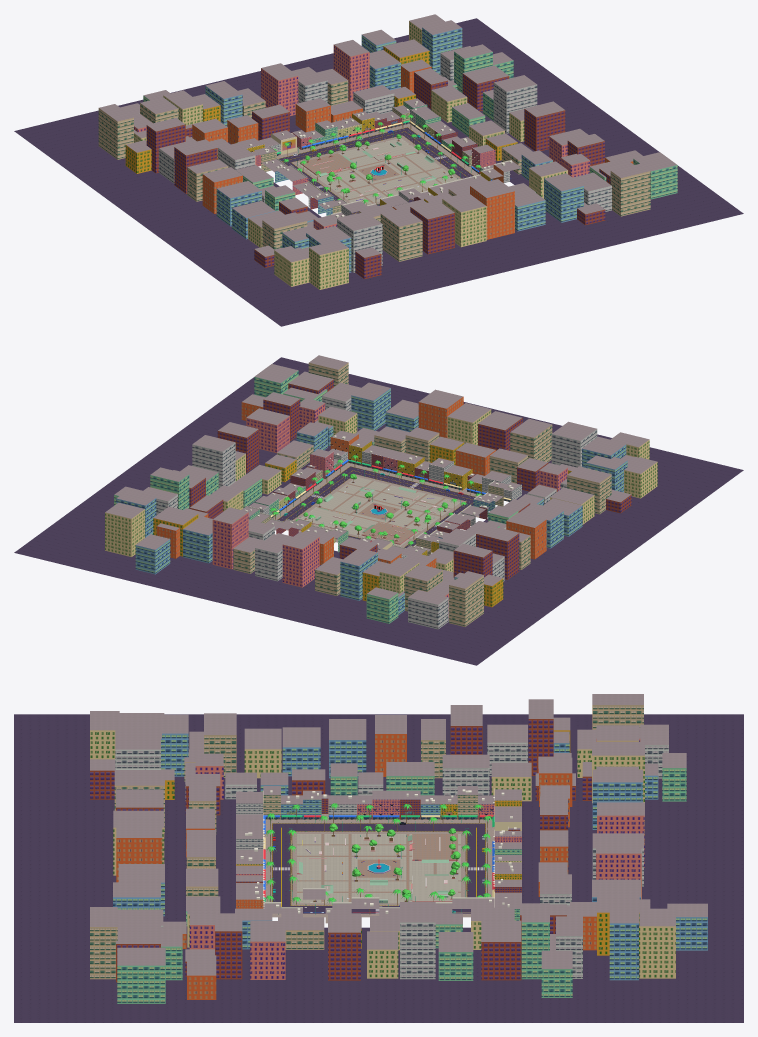
File: plaza.lite.glb
3 renders of one model, top to bottom at view 1: azimuth 30°, elevation 25°; view 2: azimuth 150°, elevation 25°; view 3: azimuth 270°, elevation 25°, orthographic. The views are drawn at different scales.
Visible parts, largest first — view 1: Backdrop, Buildings, Ground, Obstacles, Foliage, Props; view 2: Backdrop, Buildings, Ground, Obstacles, Foliage, Props; view 3: Backdrop, Buildings, Ground, Obstacles, Foliage, Props.
Part boxes in pixels (x1,y1,x2,y2): Backdrop: (14,14,743,326); Buildings: (236,98,521,218); Ground: (277,123,478,214); Obstacles: (300,139,445,201); Foliage: (274,114,481,203); Props: (281,117,478,205); Backdrop: (14,355,743,665); Buildings: (241,430,521,558); Ground: (271,462,482,550); Obstacles: (301,486,448,544); Foliage: (270,455,481,545); Props: (273,458,483,549); Backdrop: (14,694,743,1022); Buildings: (236,786,521,920); Ground: (263,814,494,923); Obstacles: (297,834,457,903); Foliage: (265,803,492,904); Props: (270,807,487,914).
Bounding box in the file's own units: 480 × 44.95 × 480.
87 materials, 65 textured.
